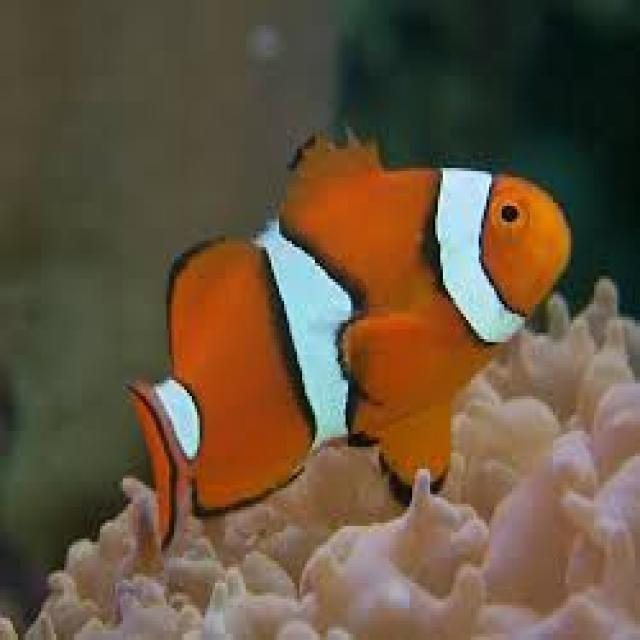ClownFish: (125, 128, 572, 552)
